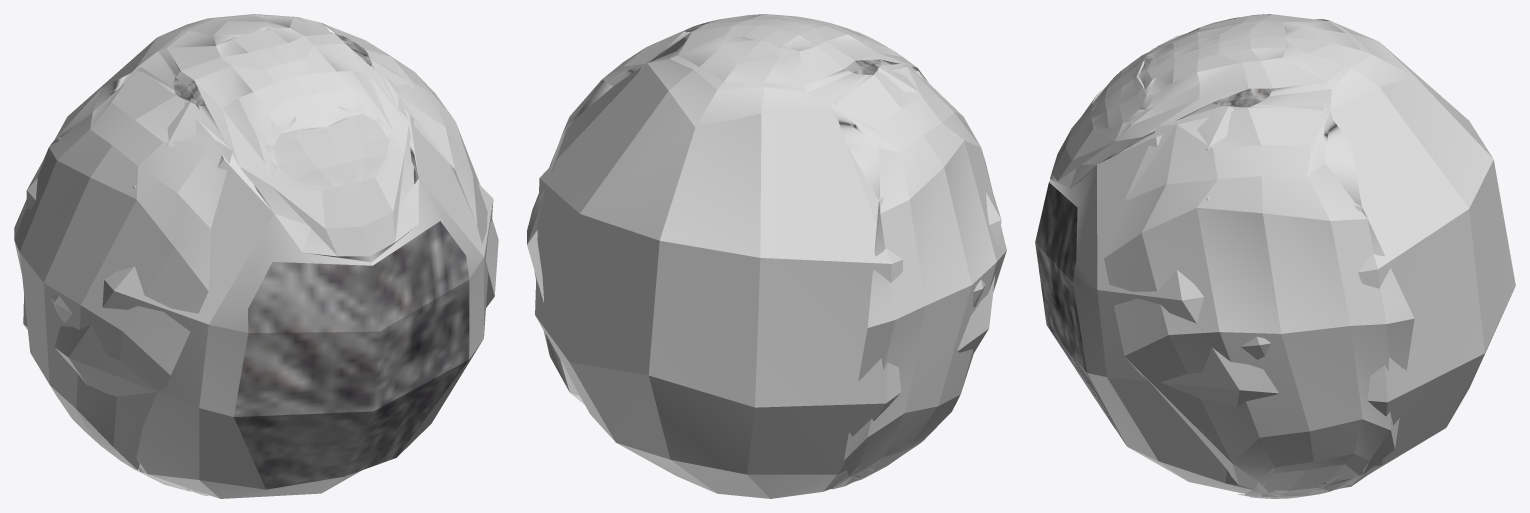
The model's file is flunklug.fbx.
The picture shows the model from 3 angles, left to right: view 1: azimuth 30°, elevation 25°; view 2: azimuth 150°, elevation 25°; view 3: azimuth 270°, elevation 25°; orthographic projection.
Parts seen in each view (by area): view 1: GorillaTag_RigIK.001; view 2: GorillaTag_RigIK.001; view 3: GorillaTag_RigIK.001.
Boxes of the visible parts, left/top/right/bottom form: GorillaTag_RigIK.001: left=14, top=14, right=498, bottom=498; GorillaTag_RigIK.001: left=527, top=14, right=1006, bottom=498; GorillaTag_RigIK.001: left=1035, top=14, right=1515, bottom=498.
Bounding box in the file's own units: 198 × 200 × 198.
